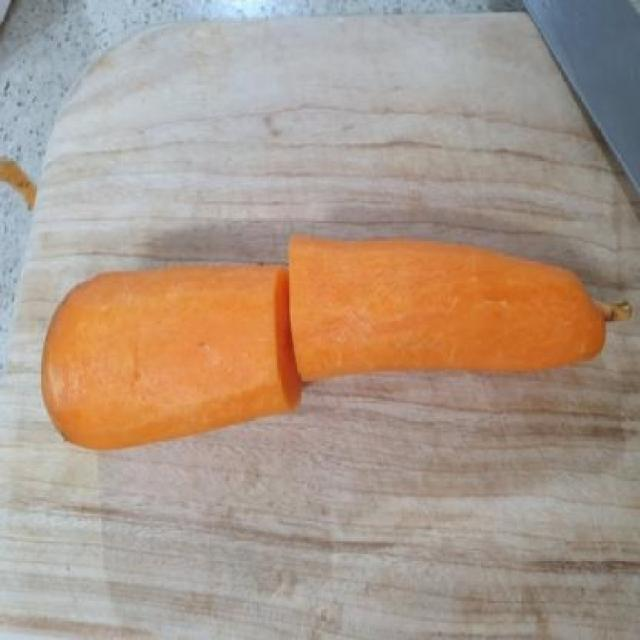carrot: (286, 228, 617, 390), (36, 260, 304, 460)
